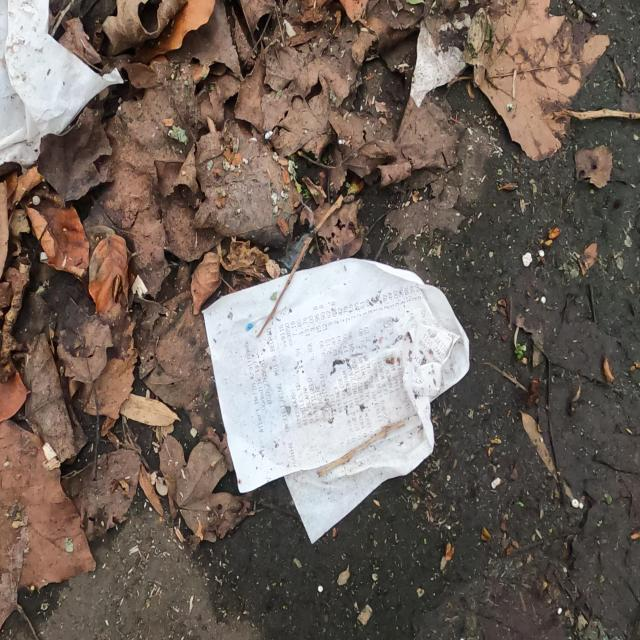Paper: (199, 252, 472, 548), (0, 0, 125, 170), (409, 14, 467, 111)
